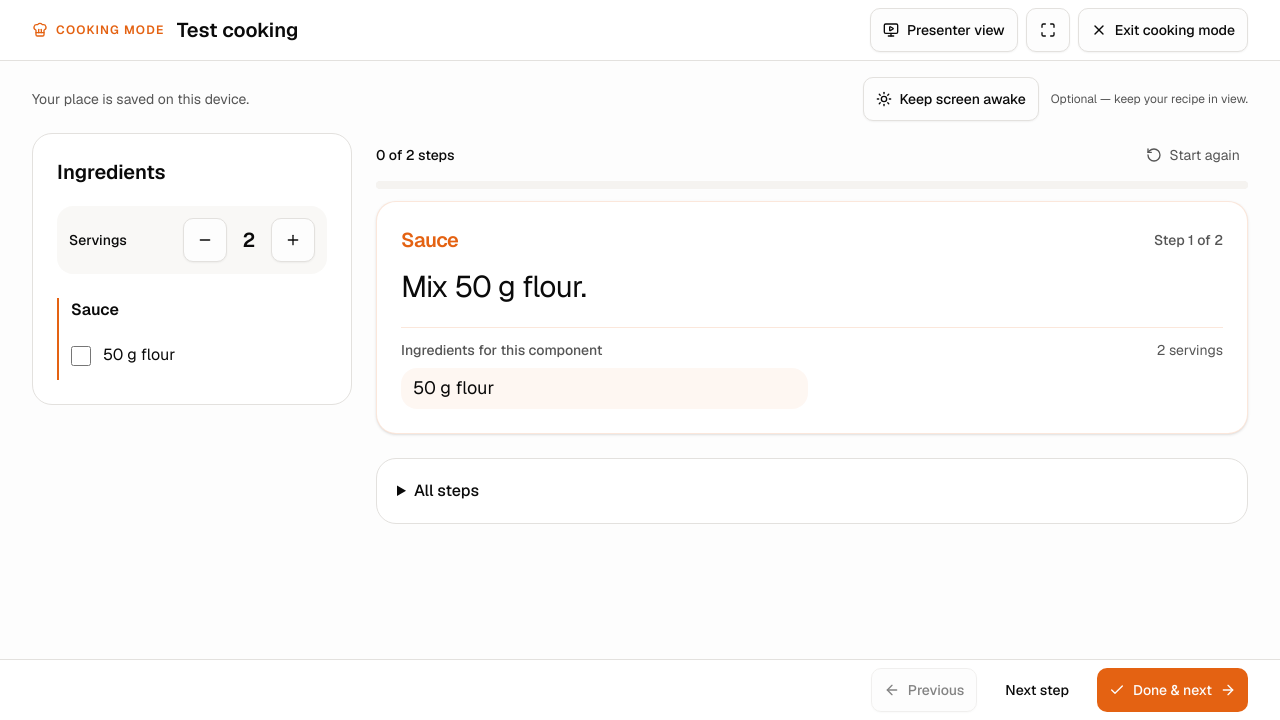
cooking mode › scales instructions and ingredients using referenced component servings
The width and height of the screenshot is (1280, 720).
Expected: the checkbox labelled "50 g flour" is shown, [71, 346, 91, 366]
Expected: the list item "50 g flour" below "Ingredients for this component" is shown, [413, 376, 494, 399]
Click the button named "Increase servings" at (293,240), box [271, 218, 315, 262]
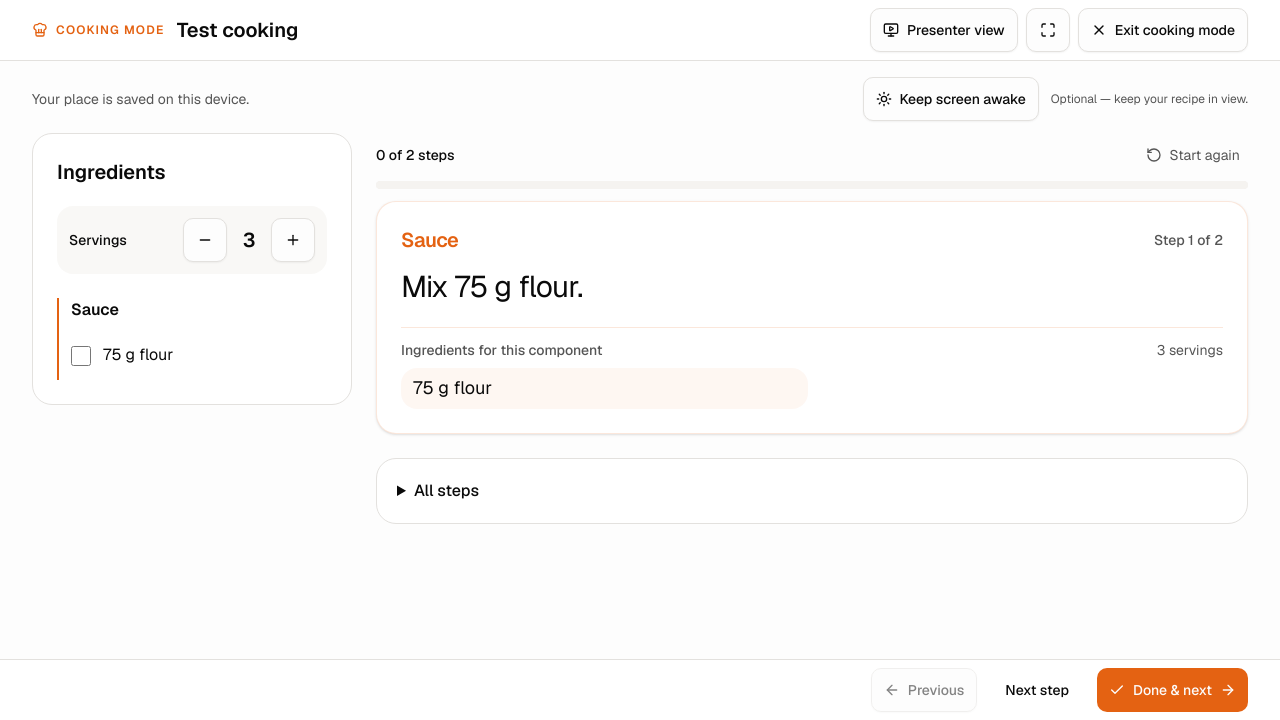
Result: the list item "75 g flour" below "Ingredients for this component" is shown at [413, 376, 492, 399]
